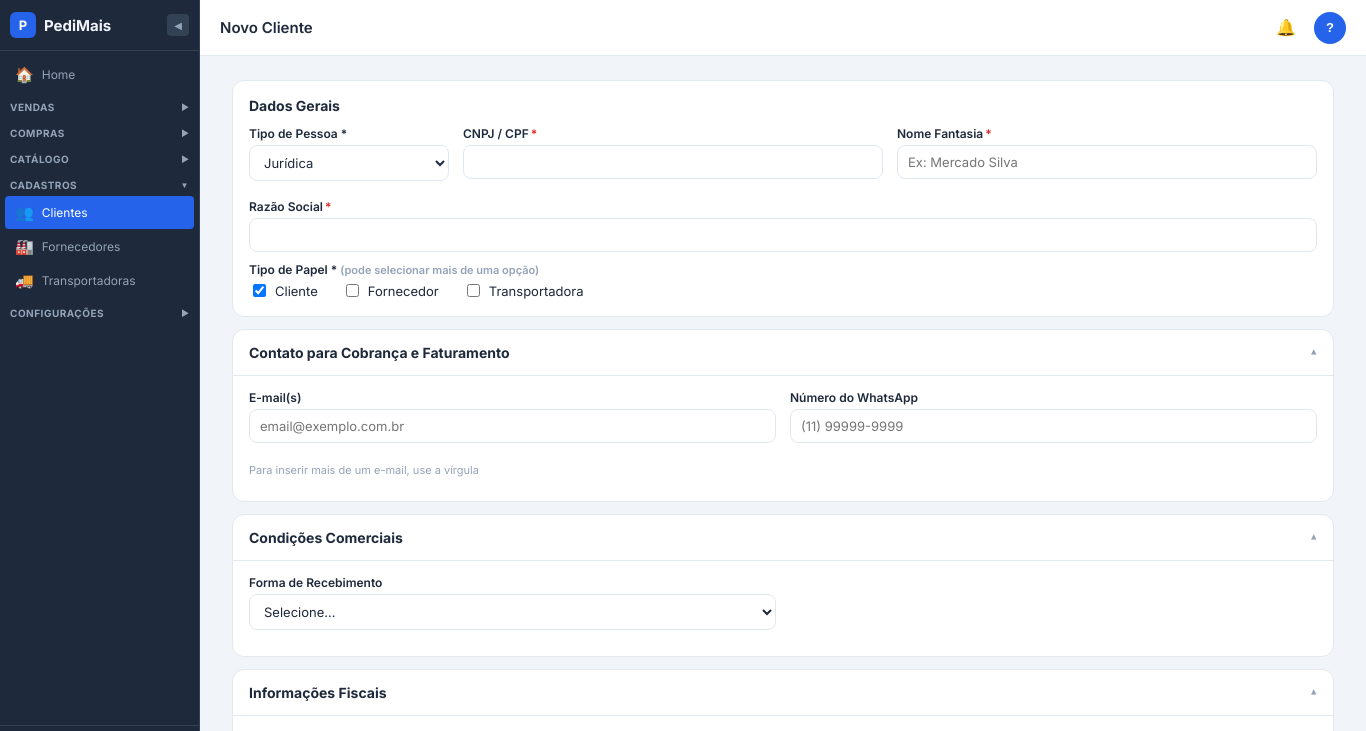
Test: ClienteFormView › shows an inline error when documento has the wrong digit count for tipoPessoa, in red
This screenshot has width=1366, height=731.
Type "123" into the field with test id "documento" at {"x": 673, "y": 162}, box x1=463 y1=145 x2=883 y2=179
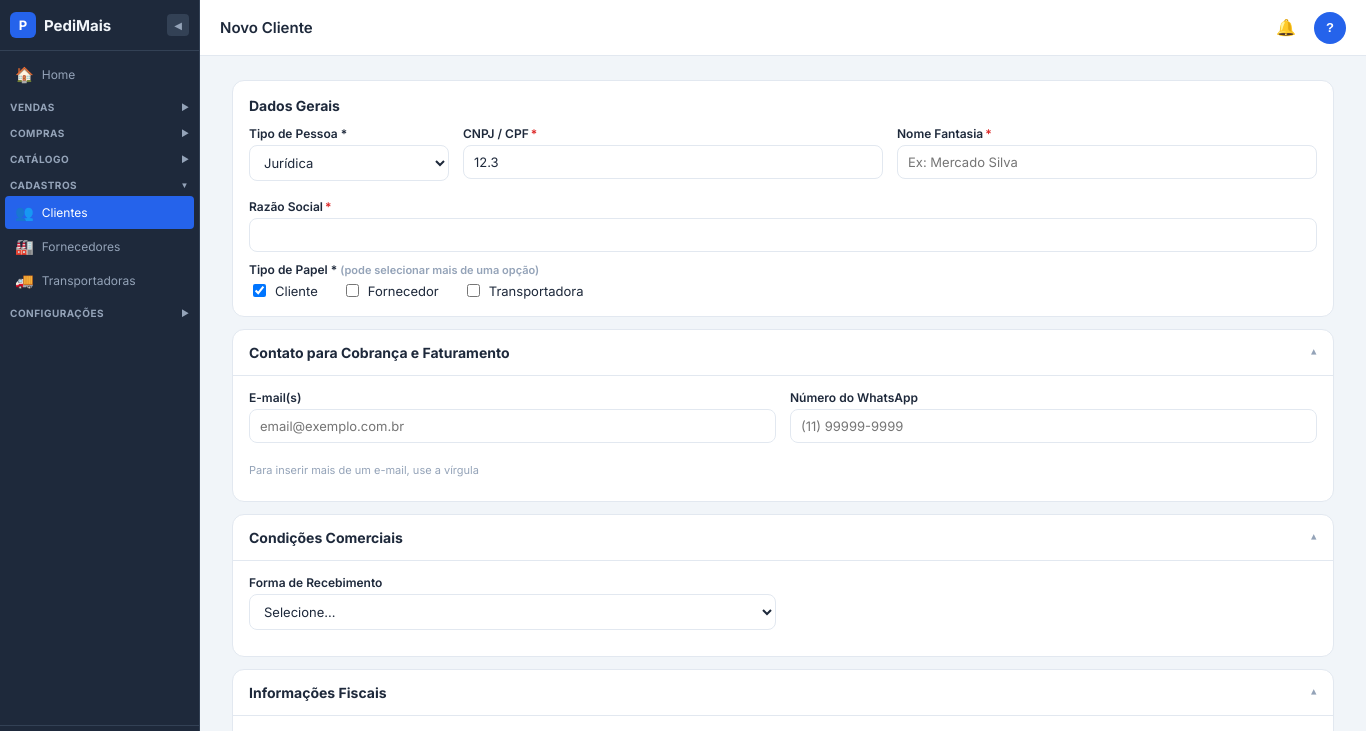
Leave the field with test id "documento", box x1=463 y1=145 x2=883 y2=179
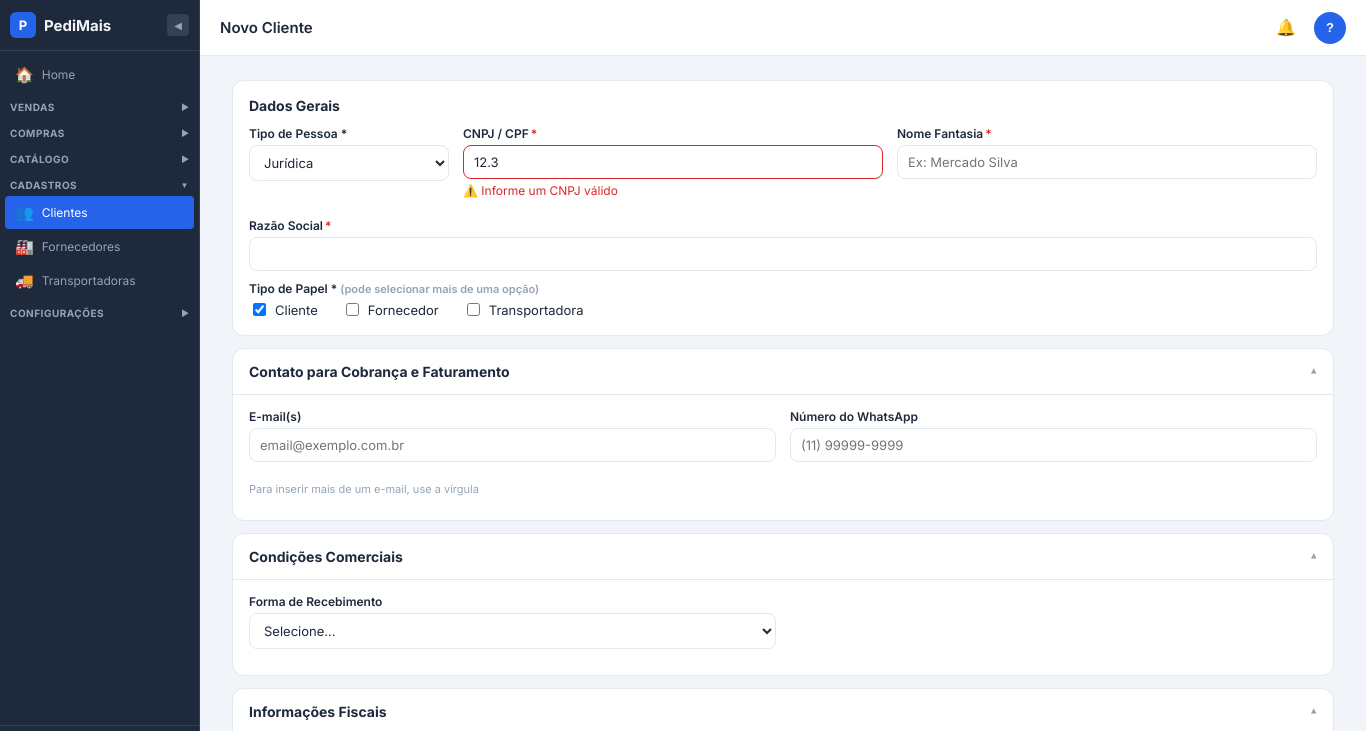
Result: the text "Informe um CNPJ válido" is shown at x1=463 y1=183 x2=618 y2=198
